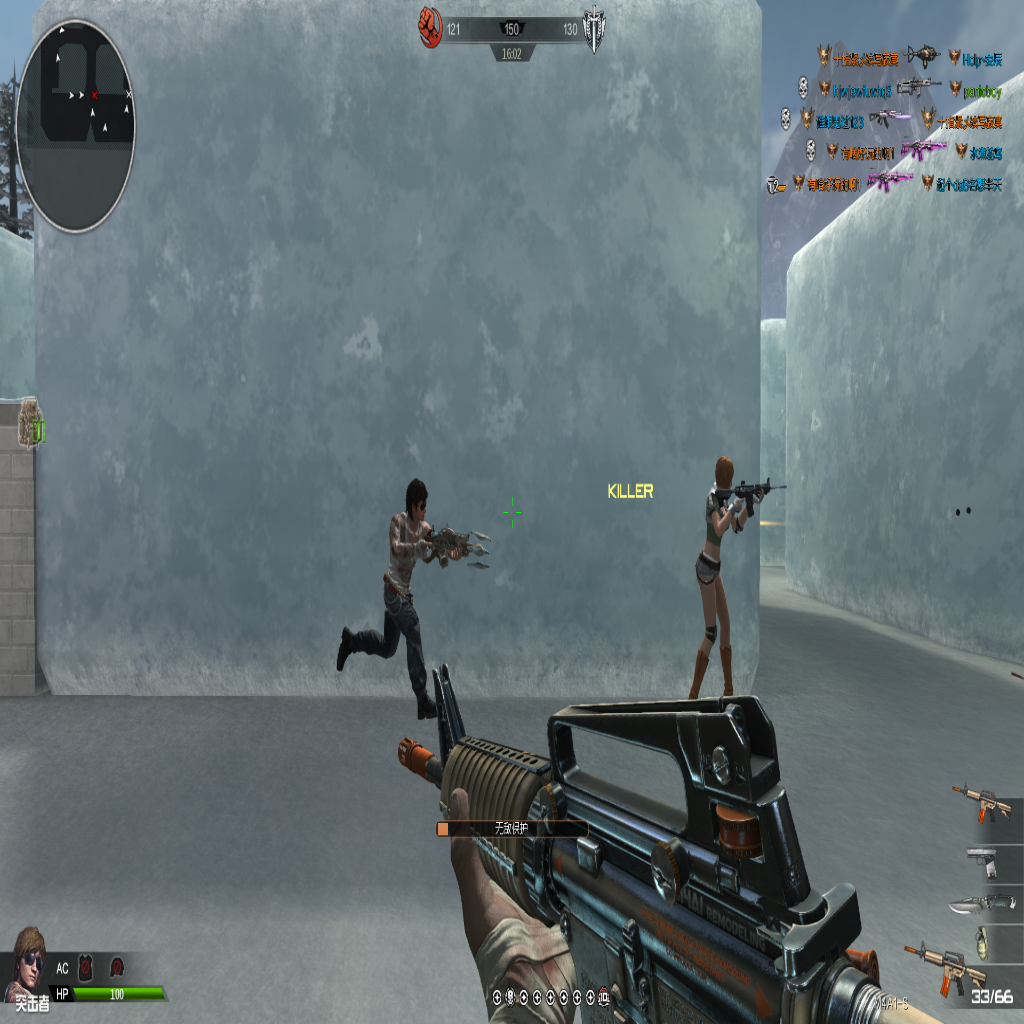tt: (332, 499, 464, 704)
